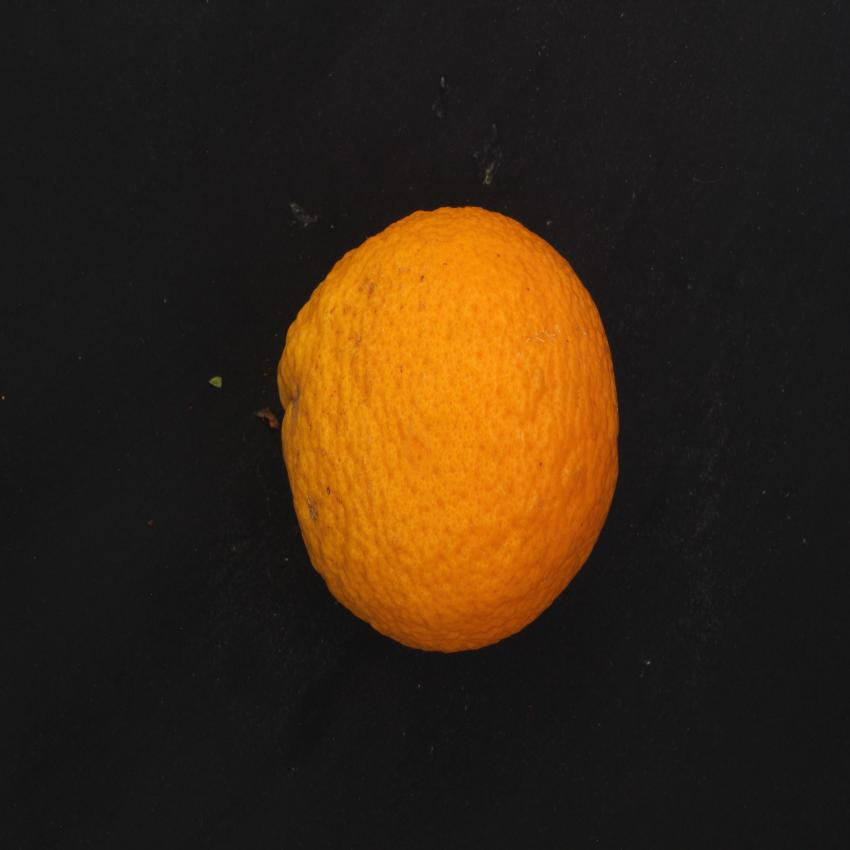Buen estado: (269, 191, 629, 668)
